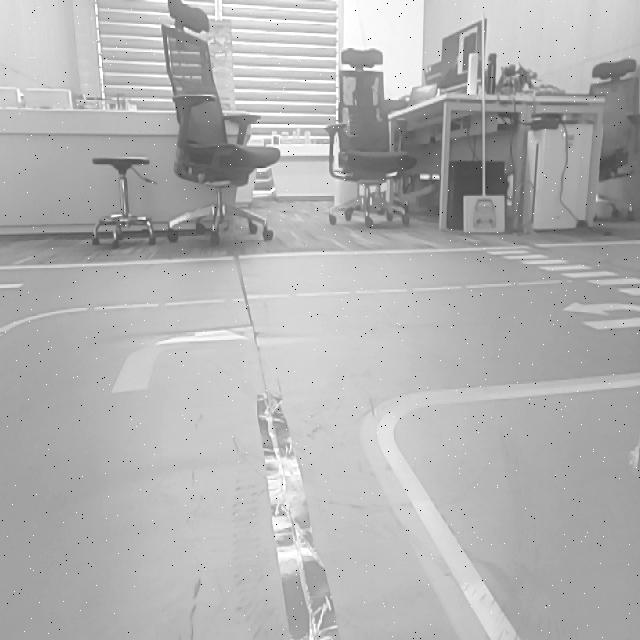left_lane: (0, 316, 31, 338)
right_lane: (360, 435, 520, 639)
